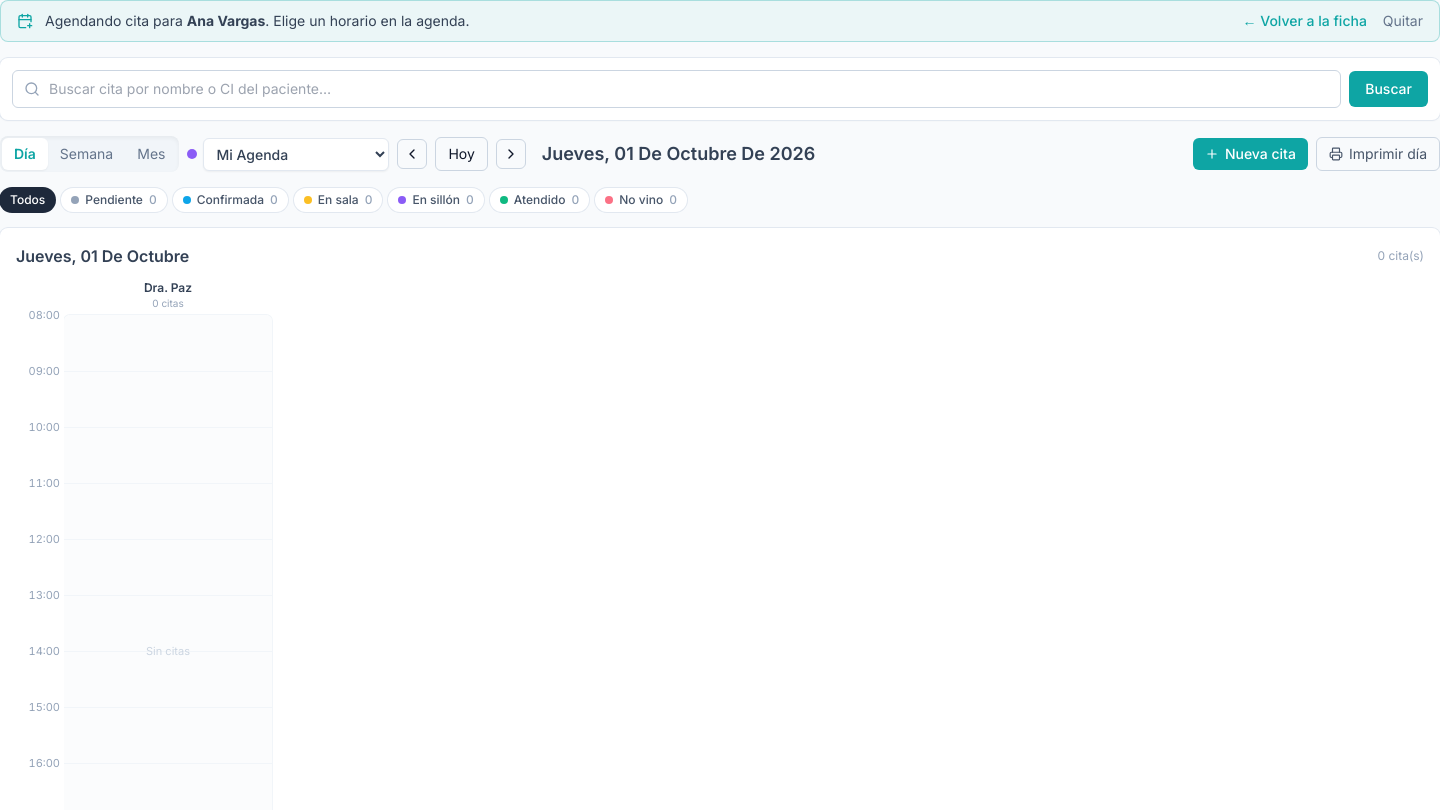
Test: Agendar cita desde la ficha del paciente › la nueva cita llega con el paciente ya elegido
The width and height of the screenshot is (1440, 810).
Click the button "Nueva cita": coordinates (1250, 154) [1193,138,1308,170]
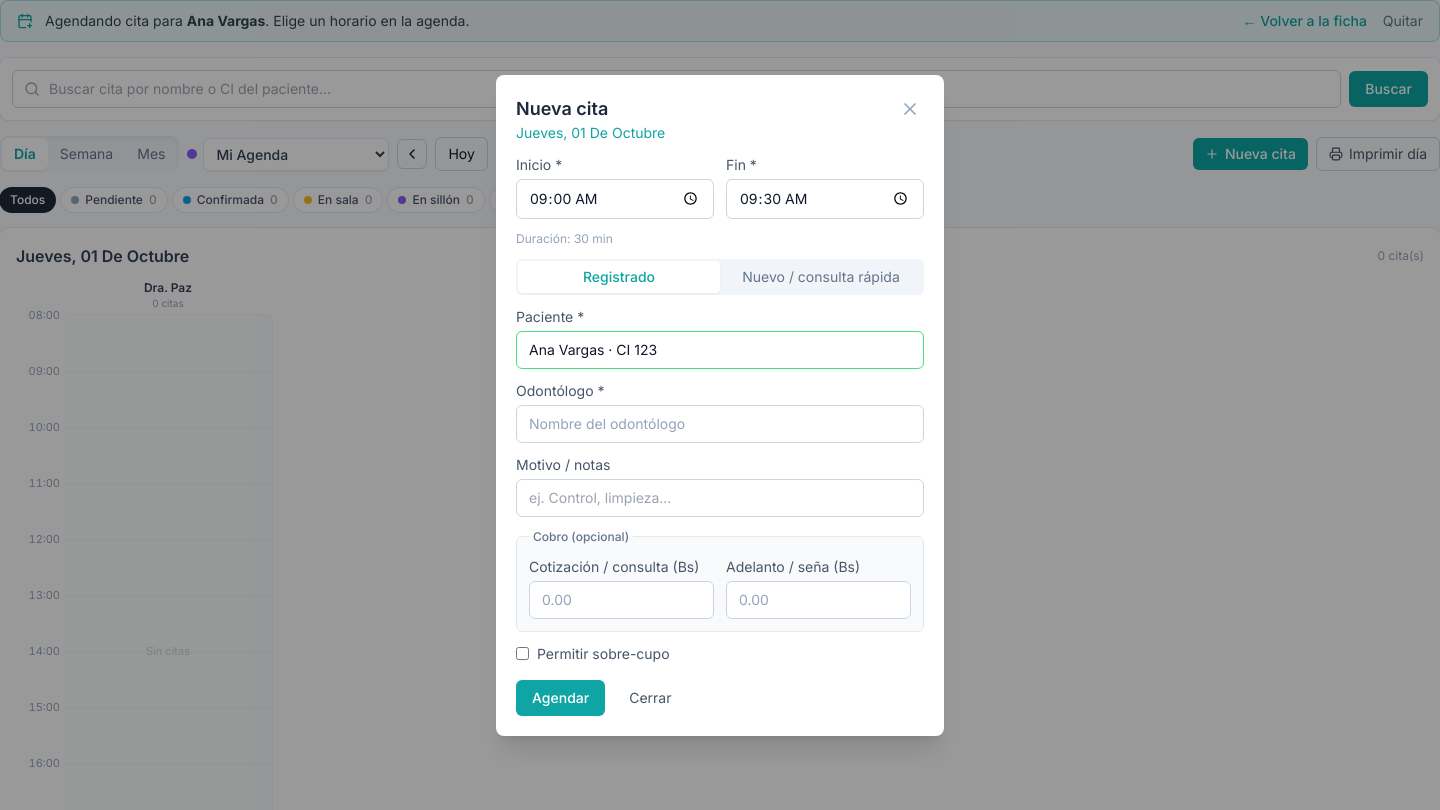
Check: the search field showing "Ana Vargas · CI 123" is shown, box [516,330,924,368]
